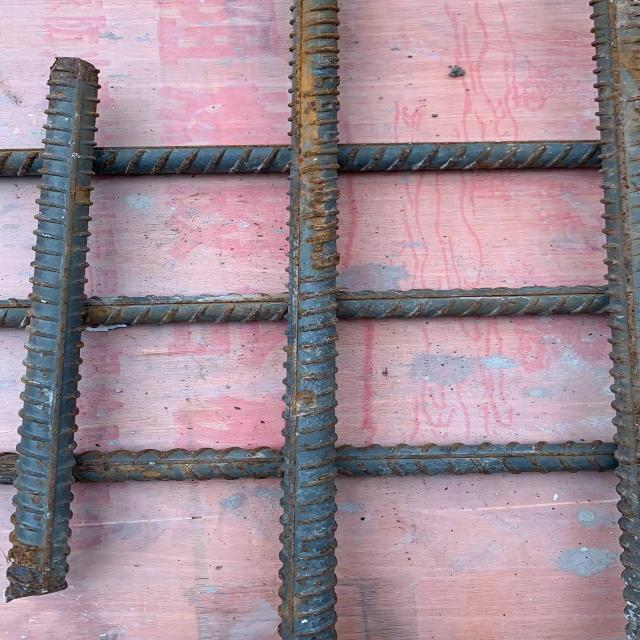ribbed bar: (0, 54, 105, 602), (276, 0, 343, 639), (581, 0, 639, 637), (0, 438, 617, 487), (0, 284, 606, 332), (0, 140, 601, 180)
